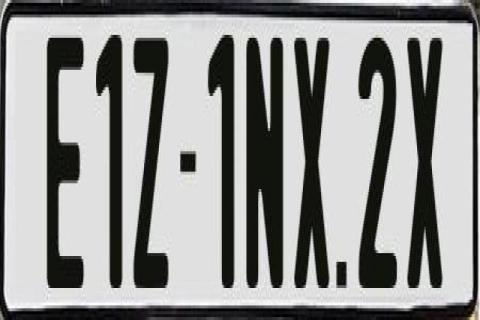0: (356, 32, 396, 294), (208, 26, 238, 294), (93, 29, 121, 285)
E: (43, 32, 81, 291)
N: (244, 32, 282, 288)
X: (292, 38, 330, 306), (406, 29, 441, 297)
Z: (133, 38, 172, 288)
